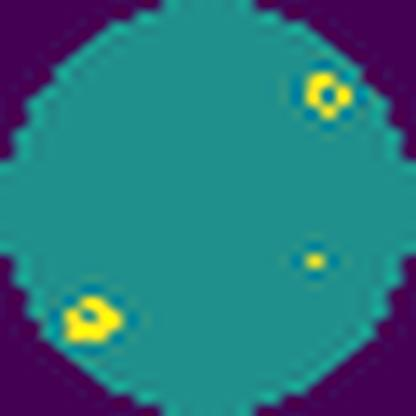Loc: (64, 290, 123, 343), (306, 67, 354, 120)
